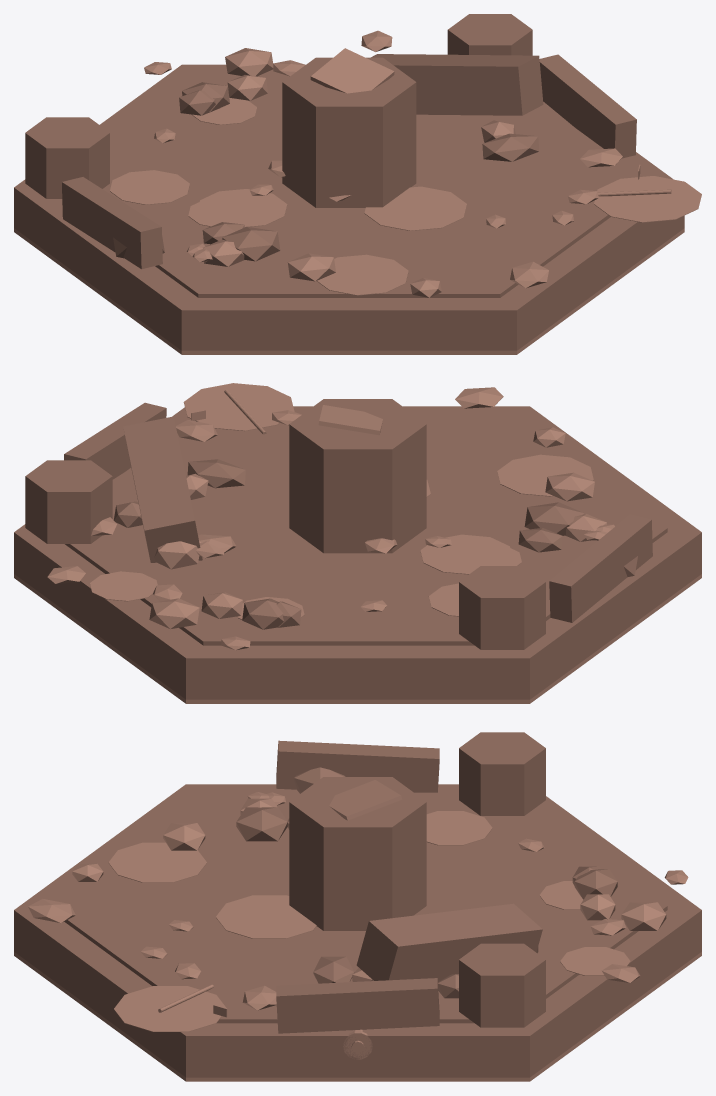
File: bastion_s2_ruin.glb
3 views of the same model, one above another, from view 1: azimuth 30°, elevation 25°; view 2: azimuth 150°, elevation 25°; view 3: azimuth 270°, elevation 25° (orthographic). The views are drawn at different scales.
Visible parts, largest first — view 1: BS_BP_1; view 2: BS_BP_1; view 3: BS_BP_1.
Part boxes in pixels (x1,y1,x2,y2): BS_BP_1: [14, 14, 701, 354]; BS_BP_1: [14, 383, 701, 703]; BS_BP_1: [14, 732, 701, 1081].
Size of the model in its own units: 5.22 by 1.62 by 6.
